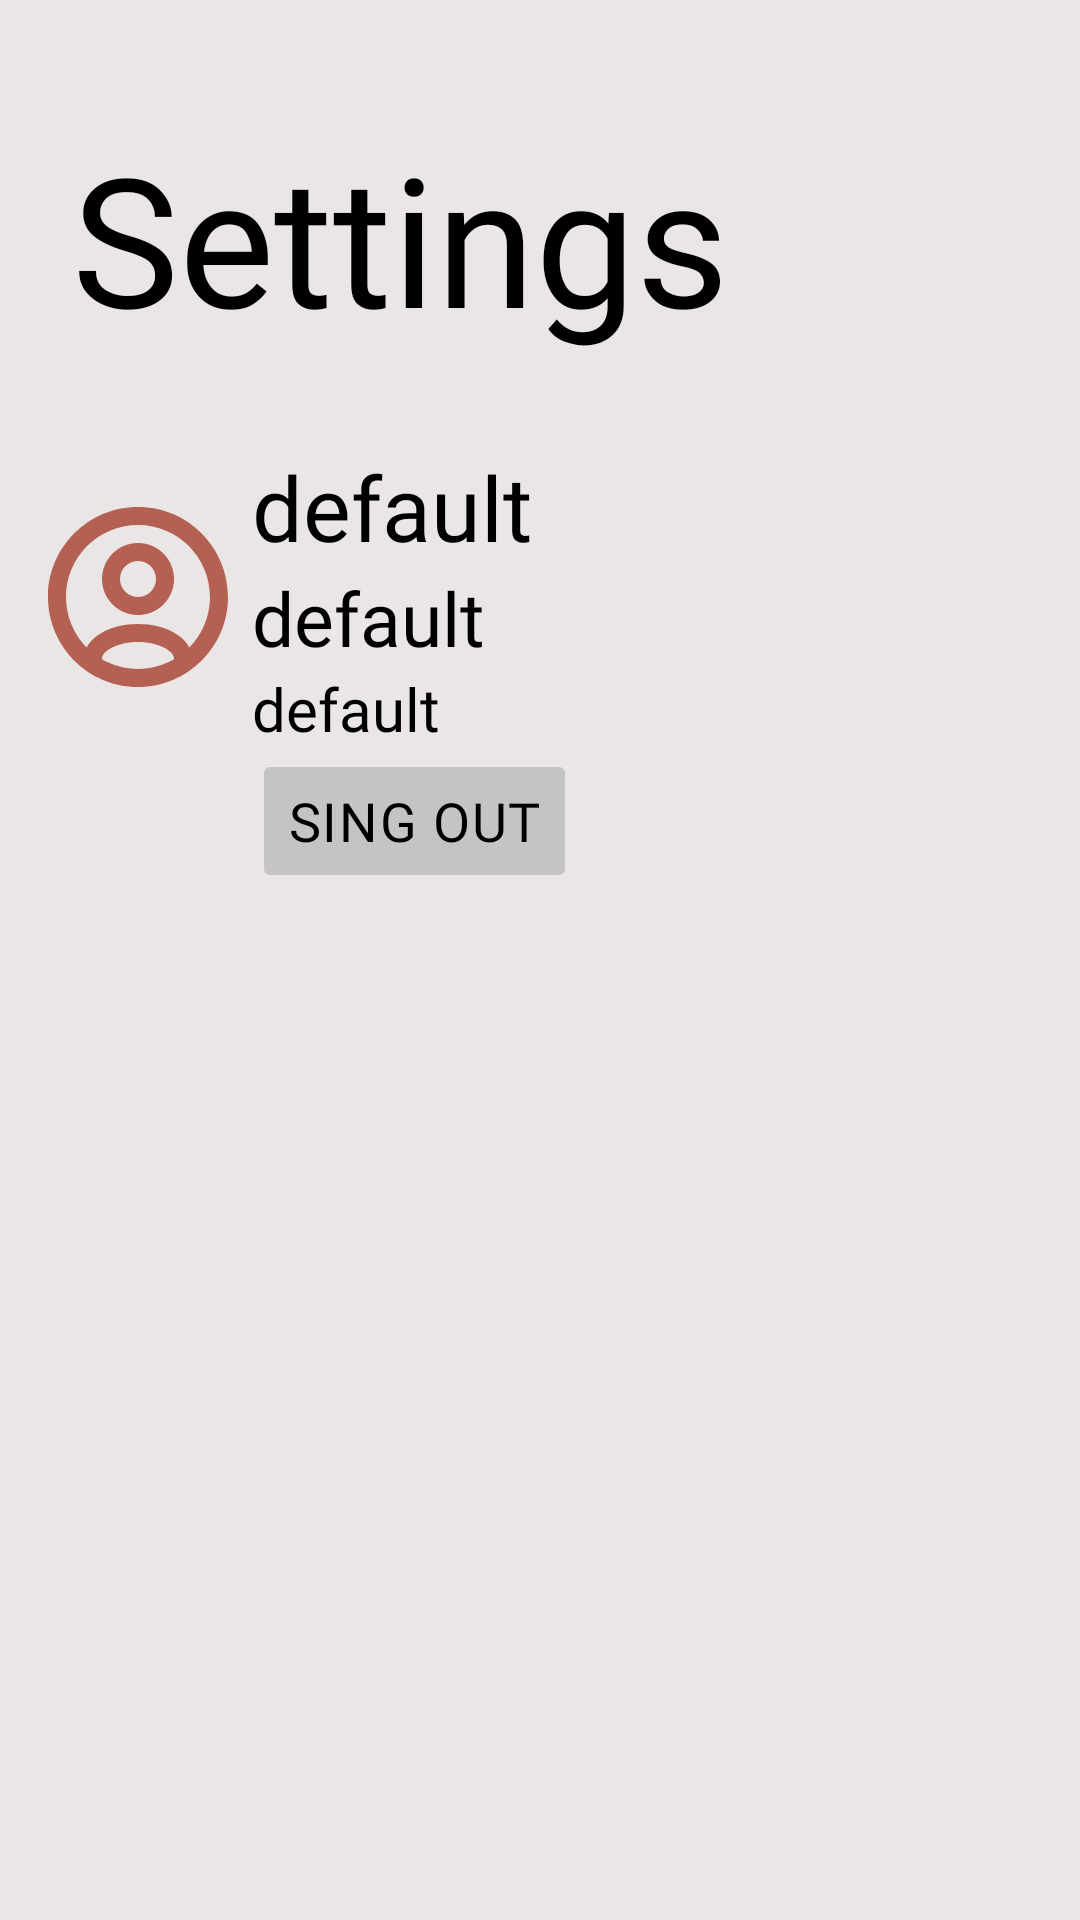

Icons on this 1080w x 1920h Android screen, each with its box as (x1, y1, x2, y2):
Icon profile: (48, 507, 228, 687)
